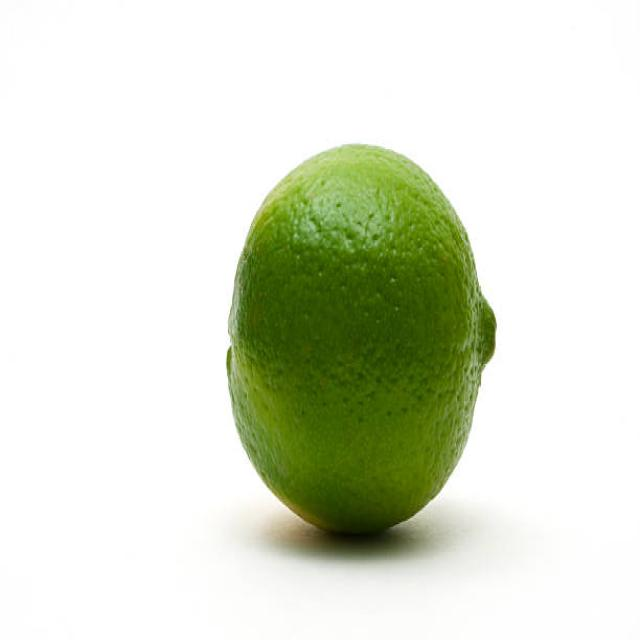Unripe: (224, 140, 497, 536)
